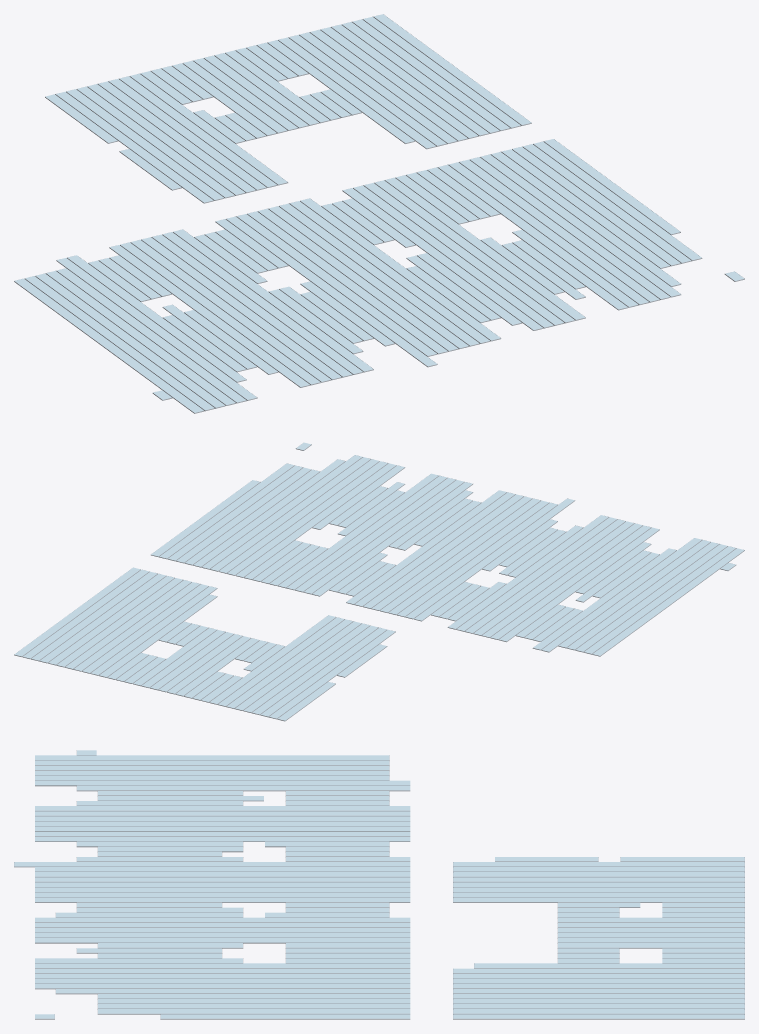
The model's file is SM_MPR4_SolarBank_00_0_LOD1.fbx.
3 views of the same model, one above another, from view 1: azimuth 30°, elevation 25°; view 2: azimuth 150°, elevation 25°; view 3: azimuth 270°, elevation 25° (orthographic). The views are drawn at different scales.
Parts seen in each view (by area): view 1: SM_MPR4_SolarBank_00_0_LOD1; view 2: SM_MPR4_SolarBank_00_0_LOD1; view 3: SM_MPR4_SolarBank_00_0_LOD1.
Boxes of the visible parts, box(x1,y1,x2,y2) form: SM_MPR4_SolarBank_00_0_LOD1: box(14, 14, 744, 413); SM_MPR4_SolarBank_00_0_LOD1: box(14, 442, 744, 721); SM_MPR4_SolarBank_00_0_LOD1: box(14, 750, 744, 1019).
Size of the model in its own units: 5929 by 6817 by 8.6.
